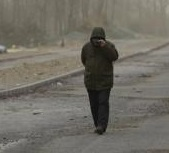person: (80, 25, 118, 135)
